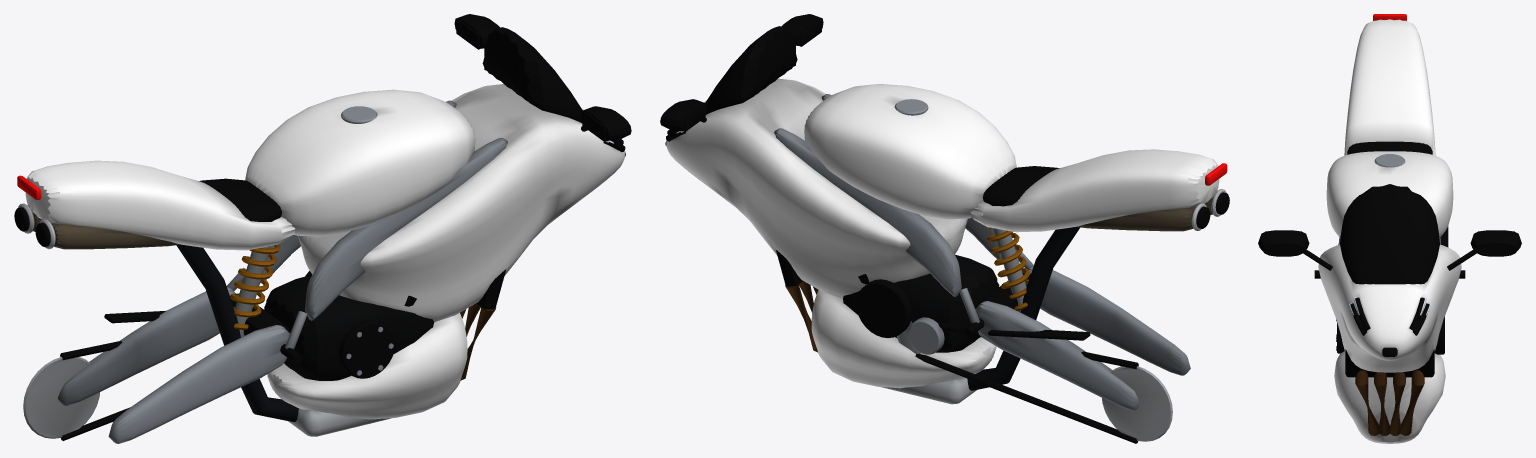
The model's file is bike_corsa_body.glb.
3 renders of one model, left to right at view 1: azimuth 30°, elevation 25°; view 2: azimuth 150°, elevation 25°; view 3: azimuth 270°, elevation 25°, orthographic. The views are drawn at different scales.
Visible parts, largest first — view 1: bk_fairing, bk_tank, bk_tail, bk_belly, bk_swing1, bk_crank, bk_swing-1, bk_spar1, bk_screen, bk_sprocketR, bk_riser, bk_clutch (+8 smaller); view 2: bk_fairing, bk_tank, bk_tail, bk_belly, bk_swing-1, bk_swing1, bk_spar-1, bk_crank, bk_screen, bk_sprocketR, bk_riser, bk_alternator (+12 smaller); view 3: bk_fairing, bk_tail, bk_screen, bk_tank, bk_belly, bk_mirror1, bk_mirror-1, bk_seat, bk_radiator, bk_hdr0, bk_hdr1, bk_hdr3 (+2 smaller).
Part boxes in pixels (bbox=[...]): bk_fairing: bbox=[298, 84, 624, 321]; bk_tank: bbox=[245, 89, 475, 236]; bk_tail: bbox=[25, 160, 295, 250]; bk_belly: bbox=[267, 313, 467, 419]; bk_swing1: bbox=[108, 325, 289, 443]; bk_crank: bbox=[264, 275, 434, 380]; bk_swing-1: bbox=[58, 287, 235, 405]; bk_spar1: bbox=[305, 138, 507, 320]; bk_screen: bbox=[482, 27, 582, 122]; bk_sprocketR: bbox=[23, 357, 99, 438]; bk_riser: bbox=[176, 244, 298, 422]; bk_clutch: bbox=[339, 319, 395, 378]; bk_fairing: bbox=[666, 78, 967, 298]; bk_tank: bbox=[804, 84, 1016, 219]; bk_tail: bbox=[970, 149, 1219, 232]; bk_belly: bbox=[811, 290, 996, 388]; bk_swing-1: bbox=[975, 301, 1139, 410]; bk_swing1: bbox=[1028, 266, 1190, 375]; bk_spar-1: bbox=[774, 128, 961, 296]; bk_crank: bbox=[843, 254, 999, 352]; bk_screen: bbox=[705, 26, 797, 114]; bk_sprocketR: bbox=[1102, 366, 1172, 441]; bk_riser: bbox=[967, 227, 1080, 390]; bk_alternator: bbox=[856, 279, 912, 337]; bk_fairing: bbox=[1318, 244, 1461, 372]; bk_tail: bbox=[1344, 19, 1435, 155]; bk_screen: bbox=[1340, 184, 1439, 284]; bk_tank: bbox=[1326, 151, 1453, 237]; bk_belly: bbox=[1334, 351, 1445, 443]; bk_mirror1: bbox=[1258, 230, 1309, 256]; bk_mirror-1: bbox=[1470, 230, 1521, 256]; bk_seat: bbox=[1347, 141, 1432, 154]; bk_radiator: bbox=[1345, 349, 1434, 377]; bk_hdr0: bbox=[1400, 370, 1424, 435]; bk_hdr1: bbox=[1390, 372, 1405, 435]; bk_hdr3: bbox=[1355, 370, 1379, 435].
Bounding box in the file's own units: 1.69 × 0.9464 × 0.77.
